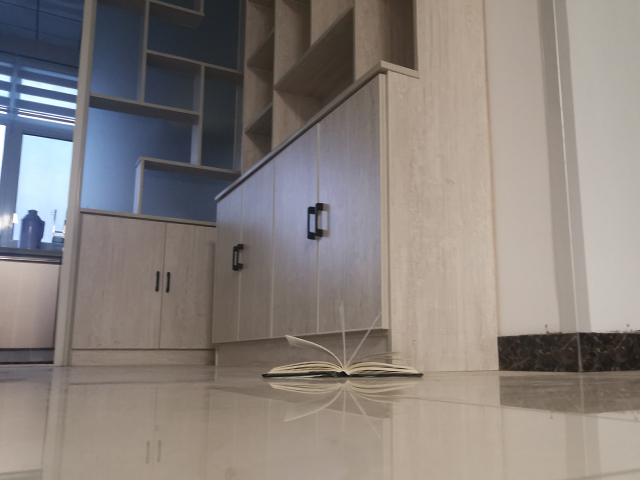book: (260, 303, 424, 380)
cabinet: (216, 65, 498, 368), (62, 211, 211, 367), (1, 248, 63, 364)
